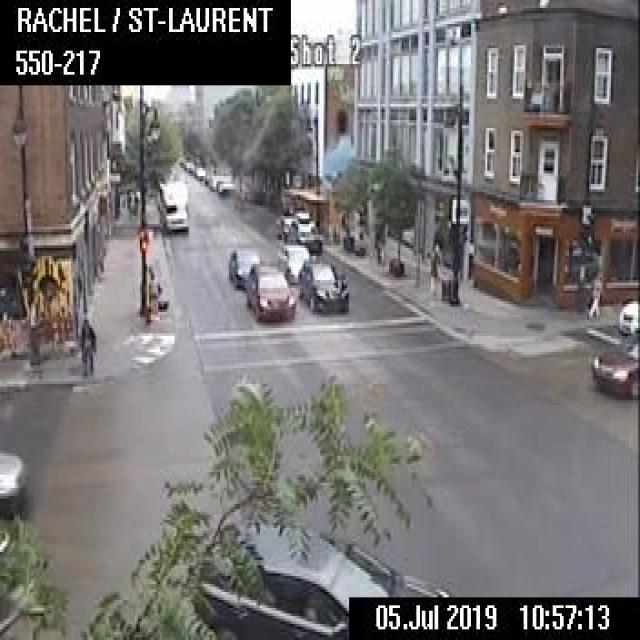pedestrian: (78, 315, 95, 376), (587, 272, 600, 320), (428, 242, 439, 294), (147, 266, 158, 314)
vehicle: (200, 520, 451, 637), (587, 332, 638, 398), (246, 260, 295, 321), (297, 255, 347, 311), (0, 445, 29, 512), (276, 242, 316, 282), (157, 180, 188, 230), (286, 211, 320, 253), (227, 246, 260, 287), (618, 298, 638, 331), (275, 212, 294, 241), (216, 177, 234, 195)
